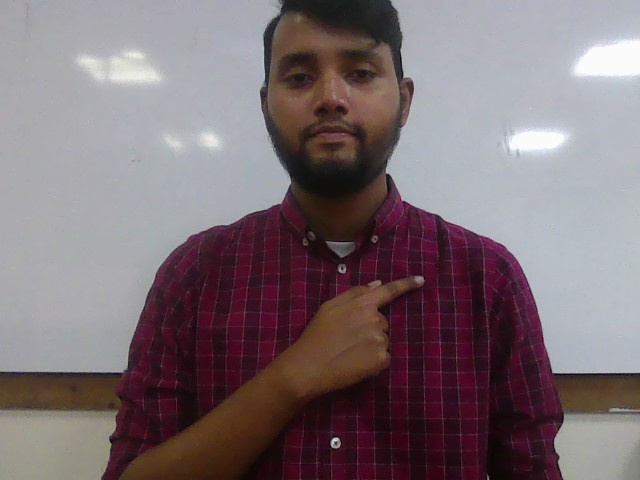Ami: (283, 274, 426, 399)
